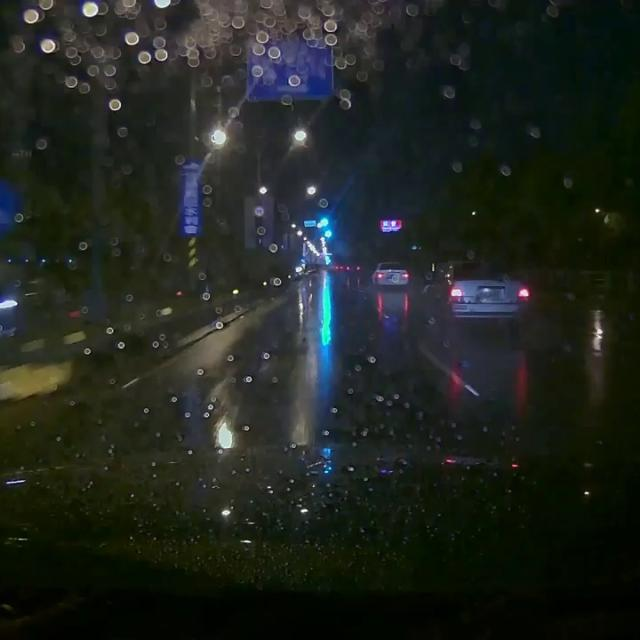Car: (415, 255, 529, 328), (367, 261, 410, 290)
